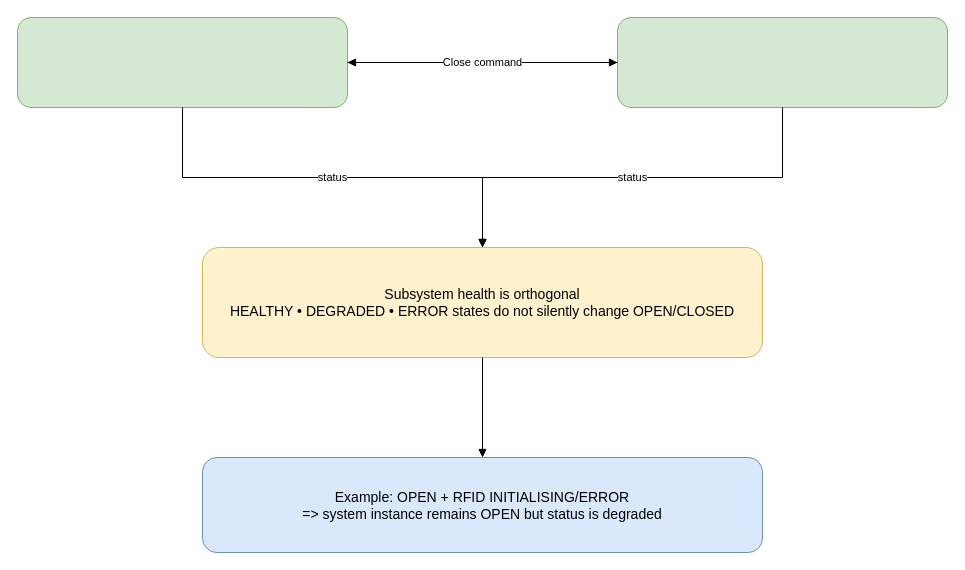
This 965x570 diagram has some shape labels left out. Here are the shapes that lost their labels. From the top down, the centre of each, then its label:
(182,62): CLOSED not accepting normal timing operation
(782,62): OPEN local timing operation enabled
